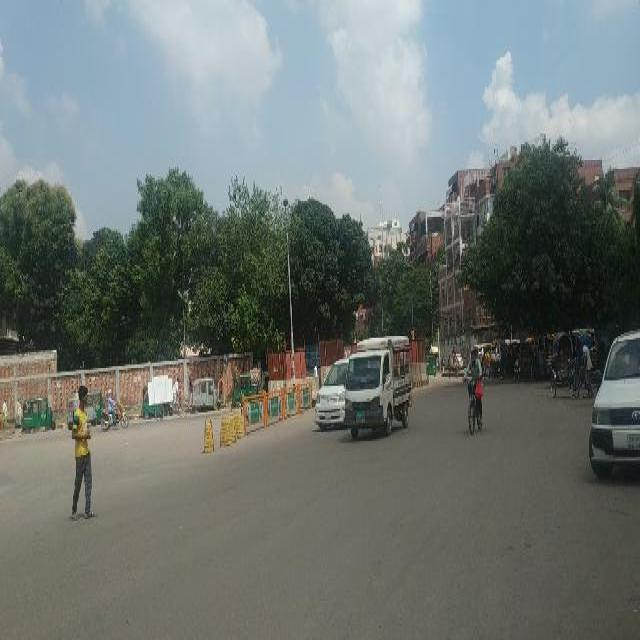bus: (346, 331, 411, 439)
car: (589, 322, 639, 490)
motorcycle: (549, 331, 581, 400), (19, 396, 56, 434), (190, 377, 221, 411), (515, 336, 536, 382), (101, 406, 129, 430), (232, 372, 251, 402), (500, 342, 514, 381), (425, 352, 436, 375)
truck: (312, 361, 345, 432)
